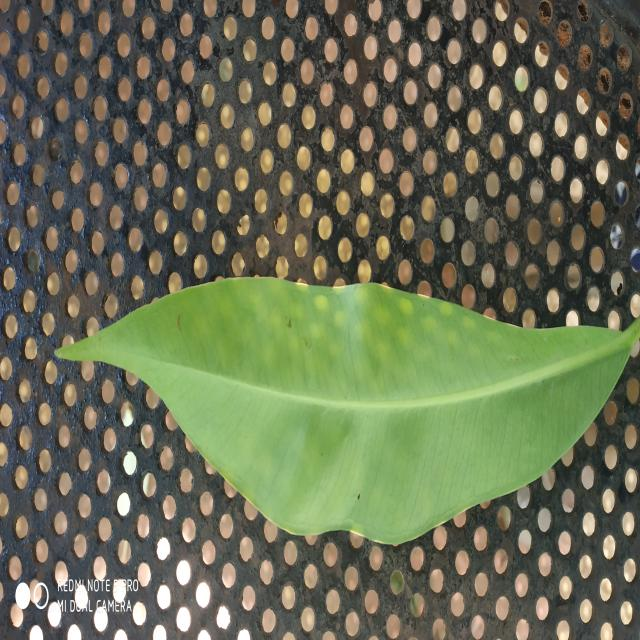nerale: (56, 278, 640, 544)
